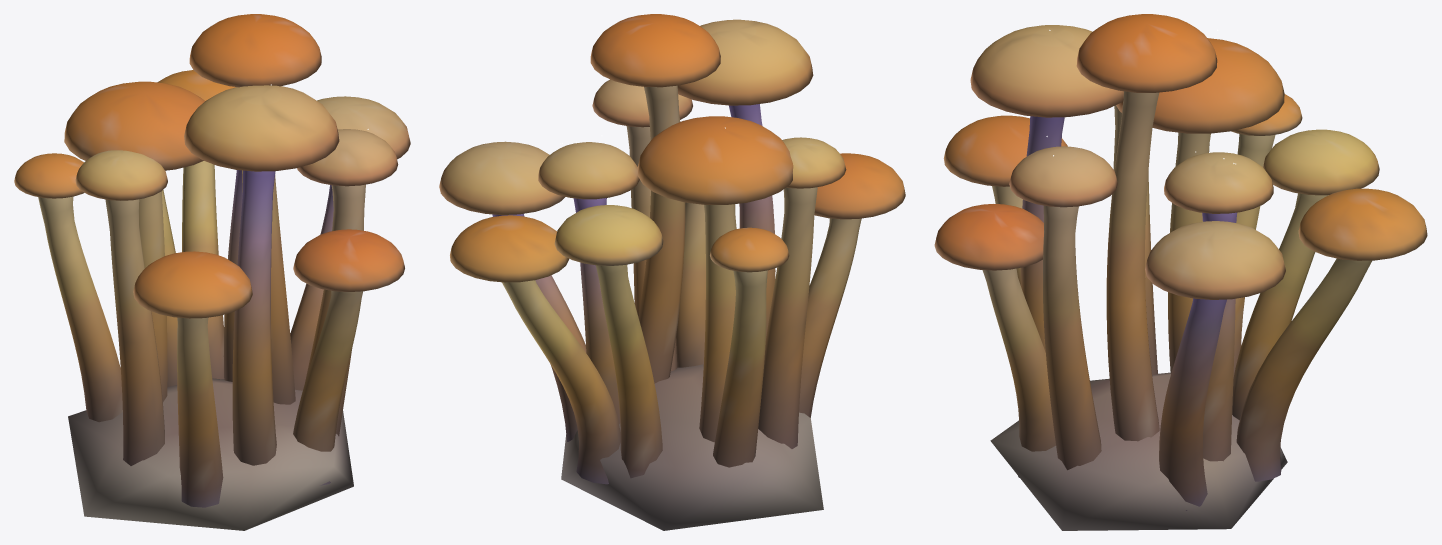
File: enoki_kucuk.glb
The picture shows the model from 3 angles, left to right: view 1: azimuth 30°, elevation 25°; view 2: azimuth 150°, elevation 25°; view 3: azimuth 270°, elevation 25°; orthographic projection. The views are drawn at different scales.
Visible parts, largest first — view 1: enoki_kucuk_LOD0; view 2: enoki_kucuk_LOD0; view 3: enoki_kucuk_LOD0.
Part boxes in pixels (bbox=[...]): enoki_kucuk_LOD0: bbox=[14, 14, 410, 530]; enoki_kucuk_LOD0: bbox=[439, 14, 905, 530]; enoki_kucuk_LOD0: bbox=[934, 14, 1427, 530].
Size of what is drawn, in the model's own units: 0.3949 by 0.491 by 0.4384.
